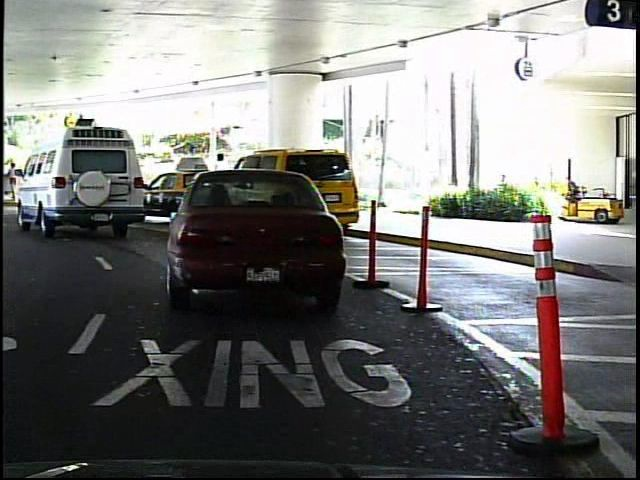person: (208, 149, 235, 214), (44, 157, 64, 200), (5, 157, 22, 199)
